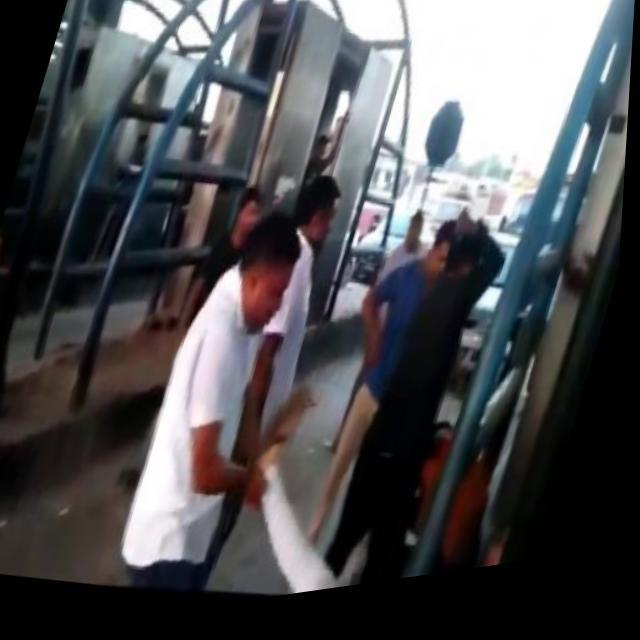fight: (290, 190, 539, 590)
non-fight: (166, 202, 301, 640)
